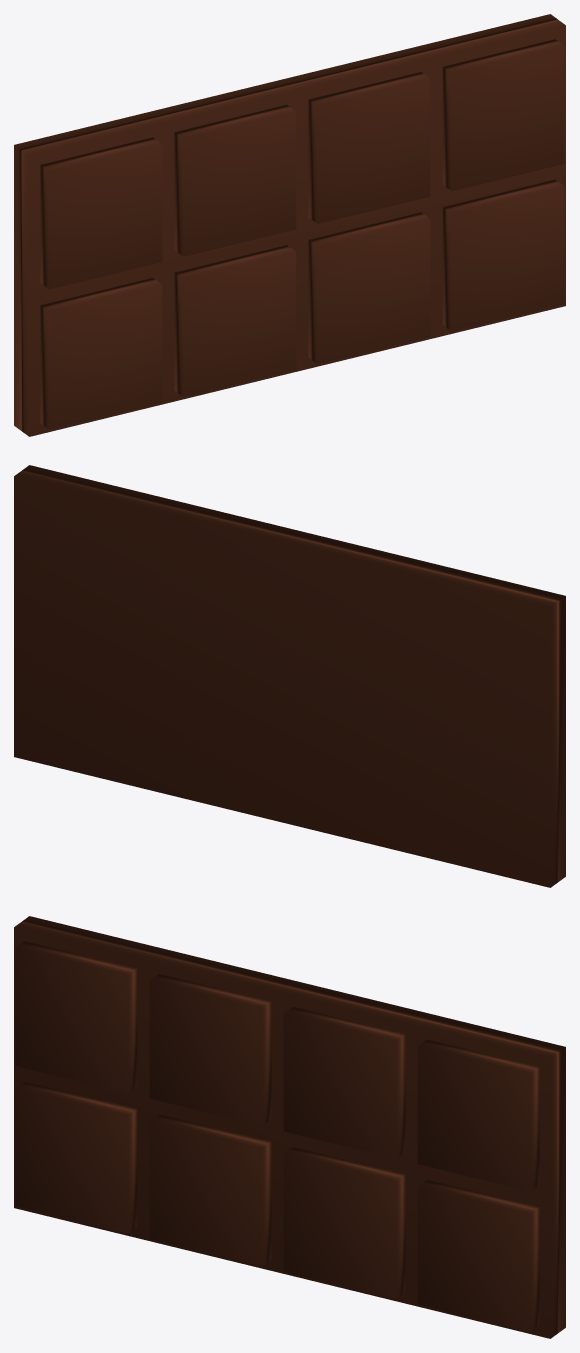
Rendered from chocolate-bar.glb.
3 renders of one model, top to bottom at view 1: azimuth 30°, elevation 25°; view 2: azimuth 150°, elevation 25°; view 3: azimuth 330°, elevation 25°, orthographic.
Parts seen in each view (by area): view 1: world; view 2: world; view 3: world.
Part boxes in pixels (x1,y1,x2,y2): world: (14, 14, 565, 436); world: (14, 465, 565, 887); world: (14, 916, 565, 1338).
Bounding box in the file's own units: 0.1 × 0.05 × 0.008.
